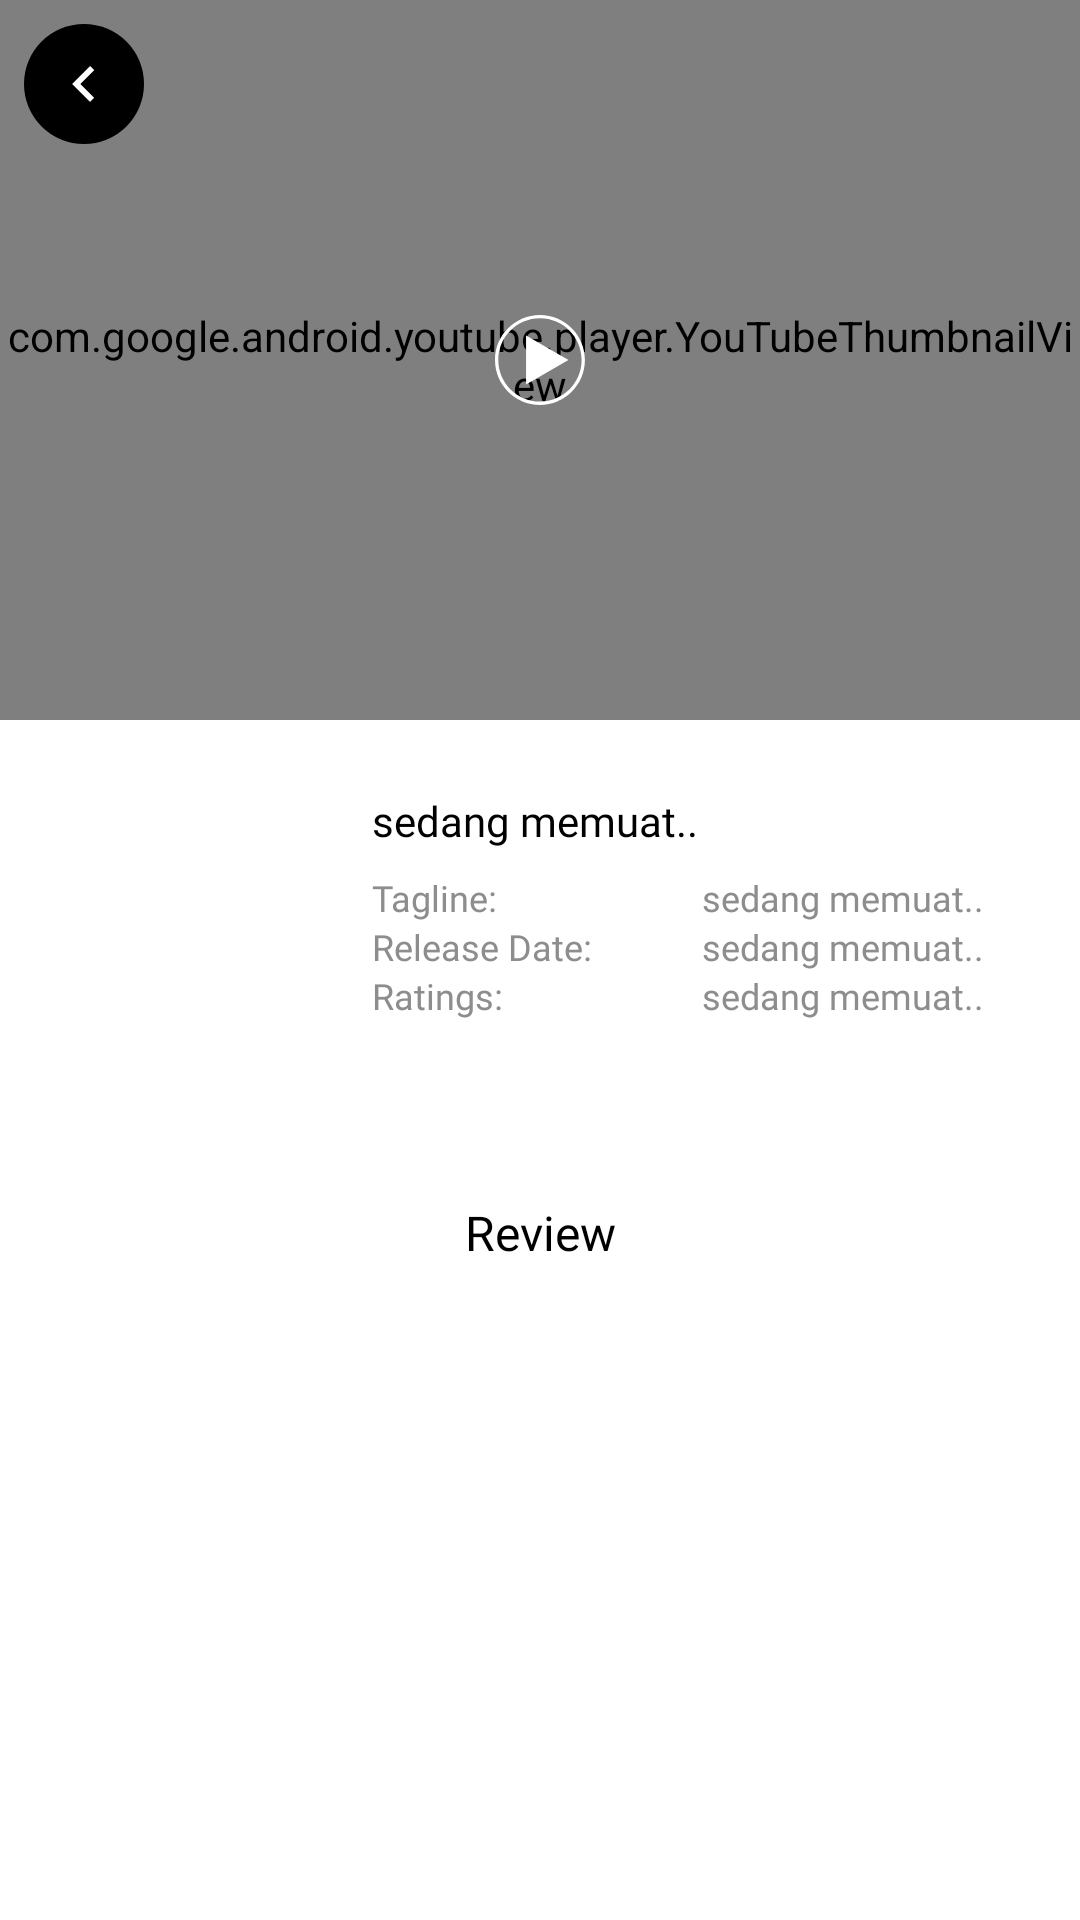

Icon bounding boxes for this 1080*1920 phone screenshot, format BBox(x1, y1, x2, y2):
back: BBox(24, 24, 144, 144)
content play: BBox(495, 315, 585, 405)
